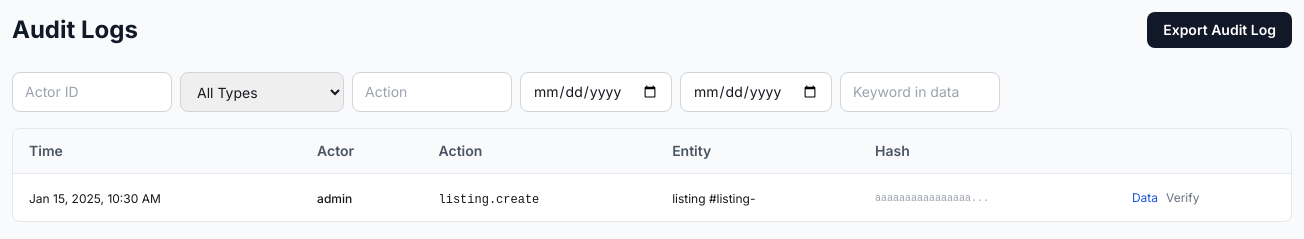
Scenario: AdminAudit — Verify button › shows ❌ after a failed verify
What coordinates should you click on to do the following:
click the button "Verify"
I would click on:
 (1183, 198)
Its box is [1166,190,1199,206].
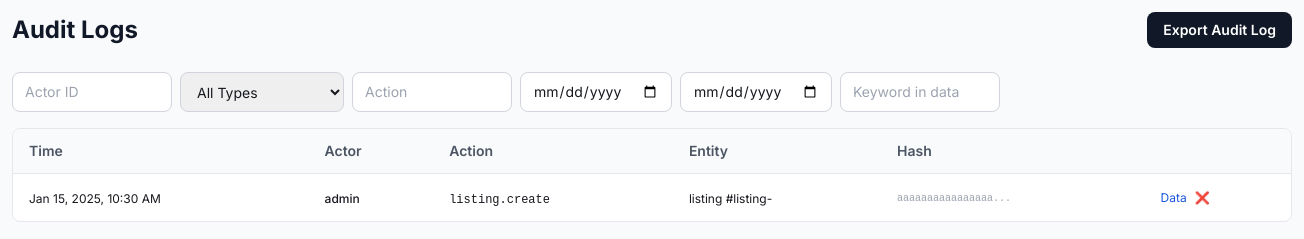
expect the button "❌" is shown: met, box [1195,190,1210,206]
